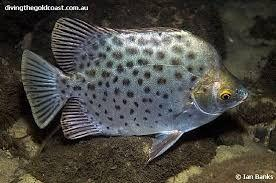Scat Fish: (21, 14, 248, 167)
